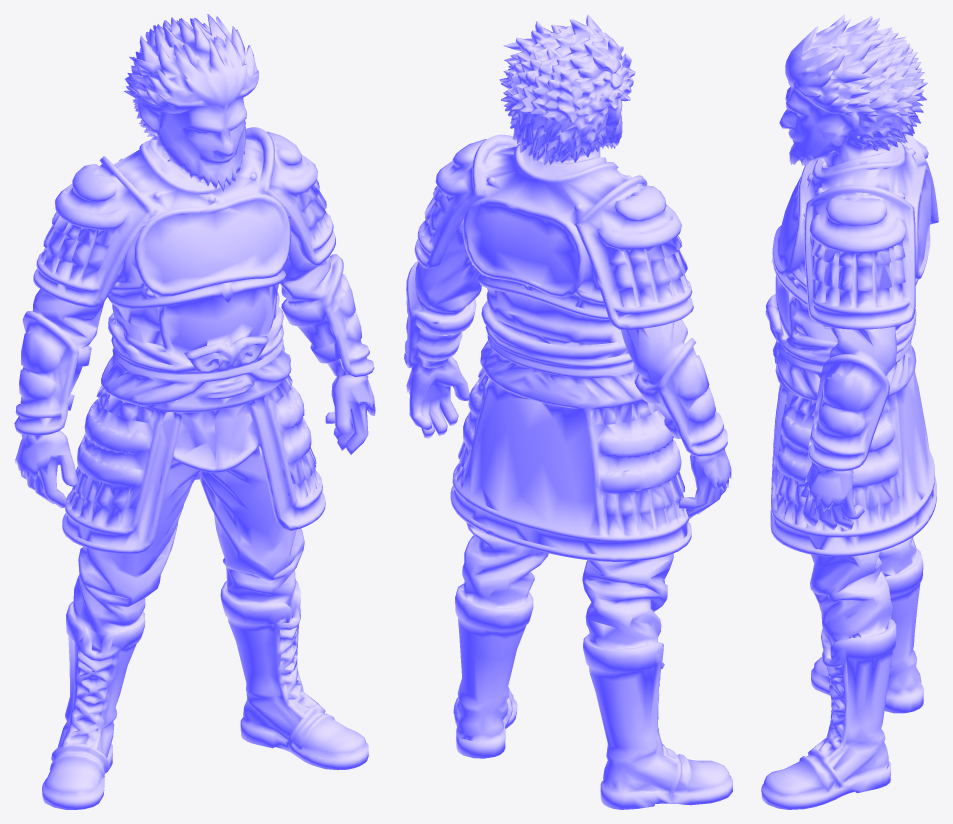
The picture shows the model from 3 angles, left to right: view 1: azimuth 30°, elevation 25°; view 2: azimuth 150°, elevation 25°; view 3: azimuth 270°, elevation 25°; orthographic projection. The views are drawn at different scales.
Parts seen in each view (by area): view 1: tmps_mhtk5e.ply; view 2: tmps_mhtk5e.ply; view 3: tmps_mhtk5e.ply.
Boxes of the visible parts, x1,y1,x2,y2 form: tmps_mhtk5e.ply: [14, 14, 375, 809]; tmps_mhtk5e.ply: [404, 14, 732, 809]; tmps_mhtk5e.ply: [761, 14, 938, 809].
Bounding box in the file's own units: 0.5161 × 1.1 × 0.2432.
